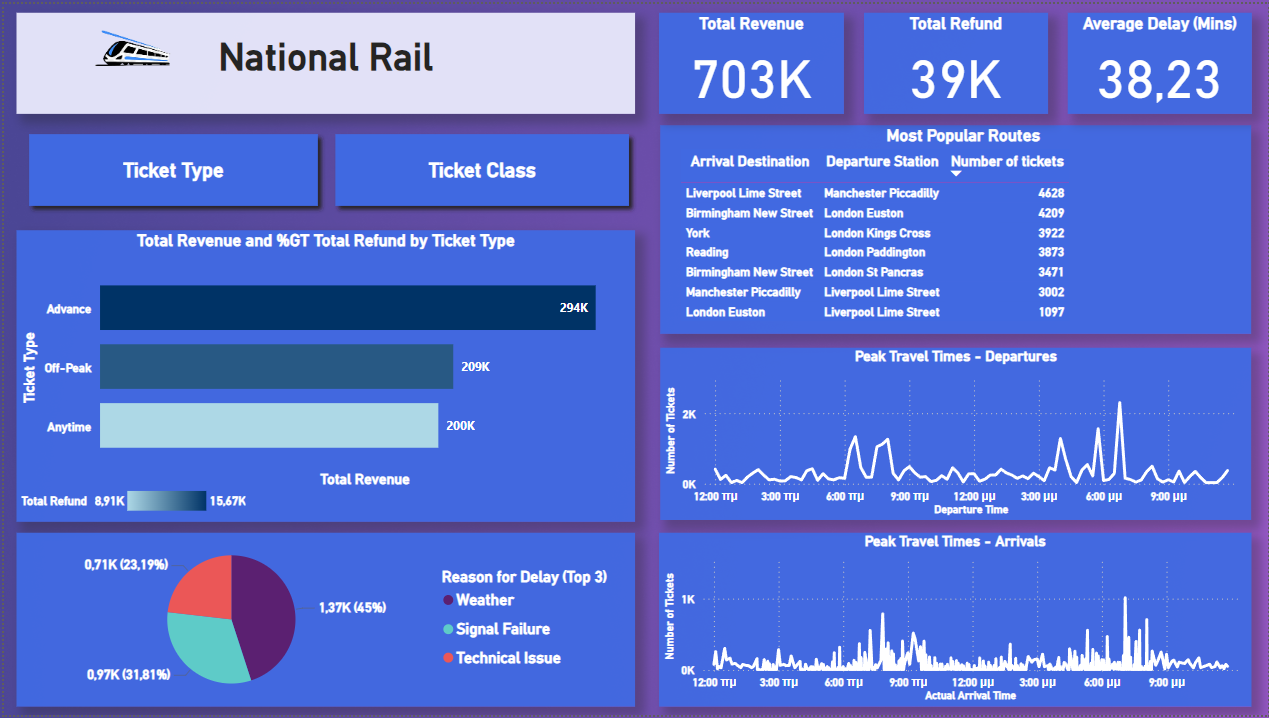

This screenshot's page, from the dashboard's own definition file:
{"tool":"powerbi","page":{"name":"Exploratory Analysis","canvas":[1280,720],"ordinal":0},"visuals":[{"type":"textbox","box":[12.7,8.9,626.6,102.5],"z":0},{"type":"image","box":[57.9,0,144.8,94.1],"z":1000},{"type":"tableEx","title":"Most Popular Routes","fields":{"Values":["route_dim.Arrival Destination","route_dim.Departure Station","revenue.route_dim_id"]},"box":[664.6,122.8,598.7,211.4],"z":2000},{"type":"lineChart","title":"Peak Travel Times - Departures","fields":{"Category":["datetime_journey_dim.Departure Time"],"Y":["CountNonNull(revenue.datetime_journey_dim_id)"]},"box":[664.6,348.1,598.7,174.7],"z":3000},{"type":"lineChart","title":"Peak Travel Times - Arrivals","fields":{"Y":["CountNonNull(revenue.datetime_journey_dim_id)"],"Category":["datetime_journey_dim.Actual Arrival Time"]},"box":[663.3,535.4,600,175.9],"z":4000},{"type":"card","title":"Total Revenue","fields":{"Values":["Sum(revenue.cc_revenue)"]},"box":[663.3,8.9,187.3,102.5],"z":5000},{"type":"card","title":"Total Refund","fields":{"Values":["Sum(revenue.cc_total_refund)"]},"box":[870.9,8.9,186.1,102.5],"z":6000},{"type":"clusteredBarChart","fields":{"Category":["purchase_ticket_dim.Ticket Type"],"Y":["Sum(revenue.cc_revenue)"]},"box":[12.7,229.1,626.6,294.9],"z":7000},{"type":"actionButton","title":"Ticket Type","box":[16.1,122.9,310.3,90.6],"z":8000},{"type":"actionButton","title":"Ticket Type","box":[326.5,122.9,315.3,90.6],"z":9000},{"type":"card","title":"Average Delay (Mins)","fields":{"Values":["datetime_journey_dim.m_average_delay"]},"box":[1077.2,8.9,186.1,102.5],"z":11000},{"type":"pieChart","fields":{"Category":["revenue.Reason for Delay"],"Y":["CountNonNull(revenue.Reason for Delay)"]},"box":[12.7,535.4,626.6,175.9],"z":11001}]}

Visuals, with their boxes in screenshot pixels (x1, y1, x2, y2), scaled from the page's 1280x720 canvas onto the 1269x718 screenshot:
textbox: box(13, 9, 634, 111)
image: box(57, 0, 201, 94)
"Most Popular Routes" tableEx: box(659, 122, 1252, 333)
"Peak Travel Times - Departures" lineChart: box(659, 347, 1252, 521)
"Peak Travel Times - Arrivals" lineChart: box(658, 534, 1252, 709)
"Total Revenue" card: box(658, 9, 843, 111)
"Total Refund" card: box(863, 9, 1048, 111)
clusteredBarChart - purchase_ticket_dim.Ticket Type x Sum(revenue.cc_revenue): box(13, 228, 634, 523)
"Ticket Type" actionButton: box(16, 123, 324, 213)
"Ticket Type" actionButton: box(324, 123, 636, 213)
"Average Delay (Mins)" card: box(1068, 9, 1252, 111)
pieChart - revenue.Reason for Delay x CountNonNull(revenue.Reason for Delay): box(13, 534, 634, 709)
